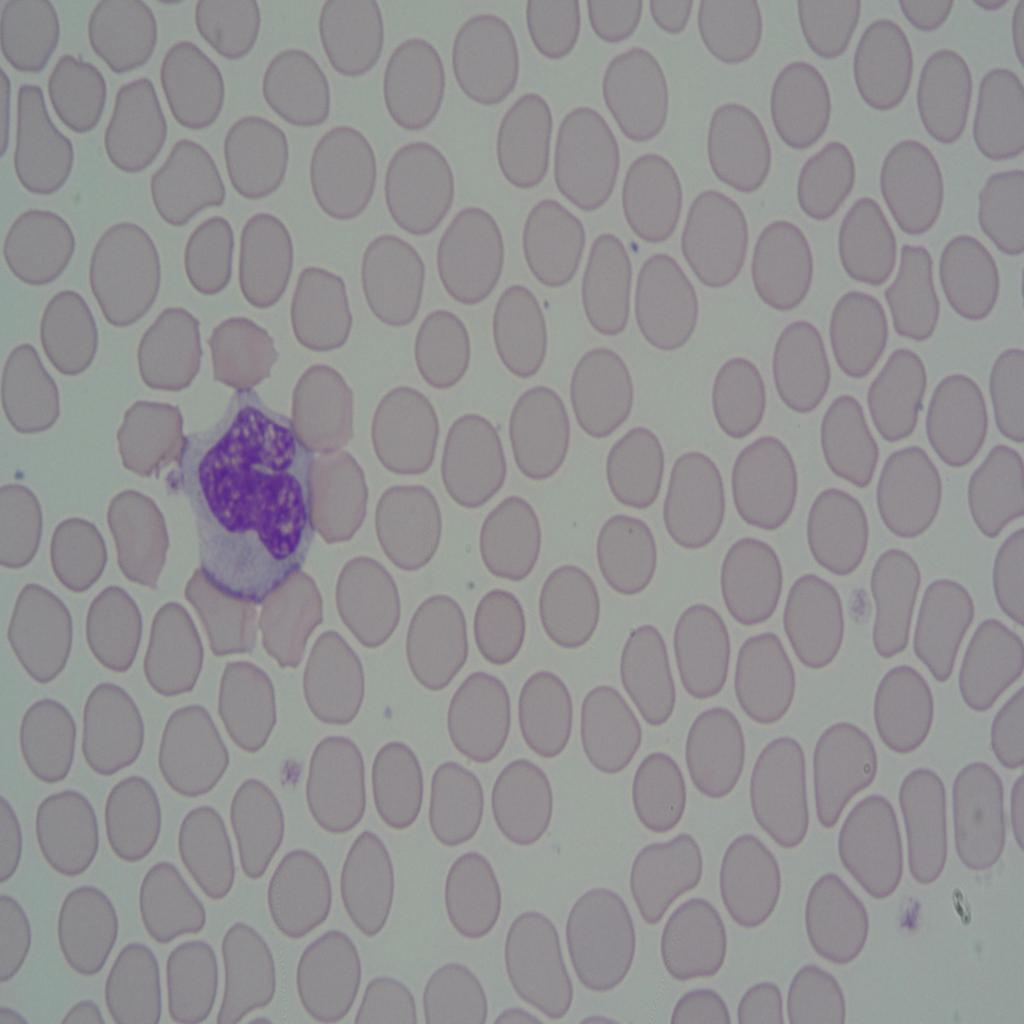Eritrosit: (751, 726, 821, 866), (727, 417, 804, 538), (698, 80, 774, 199), (395, 588, 477, 694), (662, 592, 734, 711), (830, 792, 908, 900), (505, 910, 580, 1022), (658, 444, 729, 562), (507, 379, 576, 500), (6, 581, 80, 693), (594, 44, 676, 145), (872, 132, 948, 240), (786, 565, 853, 687), (630, 246, 702, 357), (628, 829, 702, 937), (617, 626, 688, 738), (11, 80, 75, 204), (950, 749, 1010, 881), (216, 906, 283, 1024), (435, 412, 517, 508), (300, 730, 370, 842), (570, 679, 646, 782), (134, 856, 212, 956), (876, 448, 956, 545), (564, 882, 633, 994), (762, 317, 837, 420), (432, 205, 515, 298), (380, 464, 450, 572), (361, 237, 435, 339), (928, 227, 1003, 327), (140, 589, 203, 708), (302, 436, 372, 542), (437, 838, 504, 948), (94, 219, 160, 330), (136, 300, 210, 399), (158, 31, 227, 137), (32, 780, 103, 883), (383, 34, 449, 144), (683, 184, 749, 294), (813, 719, 879, 829), (157, 703, 228, 805), (310, 118, 376, 227), (208, 304, 284, 398), (716, 832, 786, 934), (0, 343, 72, 442), (962, 610, 1024, 724), (259, 559, 322, 671), (750, 214, 817, 319), (184, 559, 258, 654), (568, 347, 640, 444), (111, 480, 178, 584), (912, 44, 974, 156), (453, 10, 521, 112), (11, 685, 77, 790), (213, 651, 283, 750), (814, 392, 884, 491), (374, 373, 437, 483), (902, 769, 954, 902), (680, 708, 752, 804), (478, 486, 545, 589), (808, 866, 868, 981), (288, 263, 359, 360), (707, 350, 777, 448), (218, 104, 290, 199), (444, 671, 520, 761), (101, 82, 168, 184), (338, 824, 400, 934), (662, 894, 736, 986), (177, 796, 240, 904), (290, 927, 360, 1024), (404, 302, 476, 396), (385, 134, 450, 238), (819, 281, 894, 371), (226, 768, 284, 884), (232, 208, 297, 311), (114, 395, 190, 483), (847, 12, 910, 118), (881, 243, 945, 347), (837, 197, 907, 292), (332, 554, 397, 656), (3, 208, 83, 290), (553, 104, 616, 208), (593, 508, 660, 605), (577, 224, 634, 338), (262, 44, 334, 134), (808, 482, 868, 590), (772, 50, 838, 148), (924, 371, 991, 467), (82, 674, 144, 776), (870, 539, 919, 668), (492, 88, 555, 188), (490, 280, 553, 380), (518, 190, 588, 280), (540, 557, 603, 657), (366, 734, 427, 836), (795, 136, 861, 230), (294, 362, 360, 456), (494, 762, 561, 854), (44, 281, 106, 380), (57, 881, 118, 981), (266, 847, 332, 938), (520, 672, 585, 764), (314, 0, 384, 85), (873, 662, 935, 755), (46, 508, 110, 597), (87, 0, 158, 80), (102, 769, 165, 858), (468, 588, 533, 674), (45, 50, 107, 139), (624, 150, 682, 244), (871, 348, 927, 444), (967, 452, 1024, 546), (155, 143, 221, 224), (974, 56, 1024, 162), (0, 477, 52, 578), (428, 758, 488, 845), (0, 0, 67, 77), (916, 578, 964, 685), (306, 635, 360, 730), (605, 426, 666, 510), (85, 575, 144, 660), (429, 946, 491, 1024), (725, 546, 778, 636), (976, 167, 1024, 264), (190, 0, 260, 66), (105, 938, 157, 1024), (161, 944, 213, 1024), (179, 222, 231, 298)
Monosit: (178, 399, 317, 602)
Platelet: (278, 754, 300, 800), (624, 226, 640, 258)
